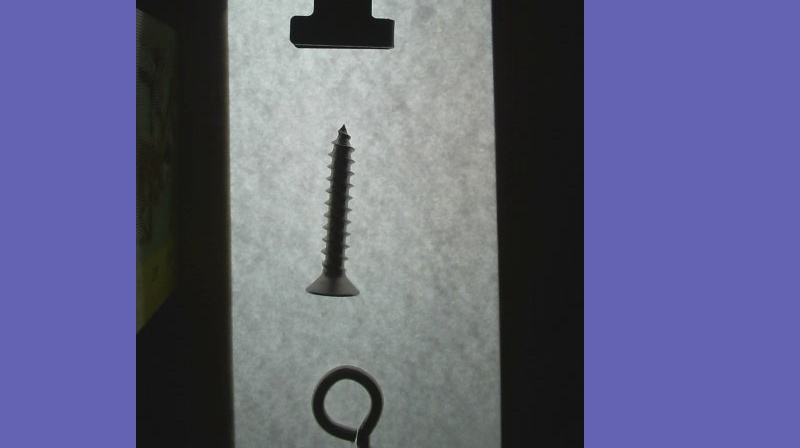O001: (307, 356, 392, 447)
O002: (283, 0, 398, 53)
S001: (303, 123, 364, 298)
